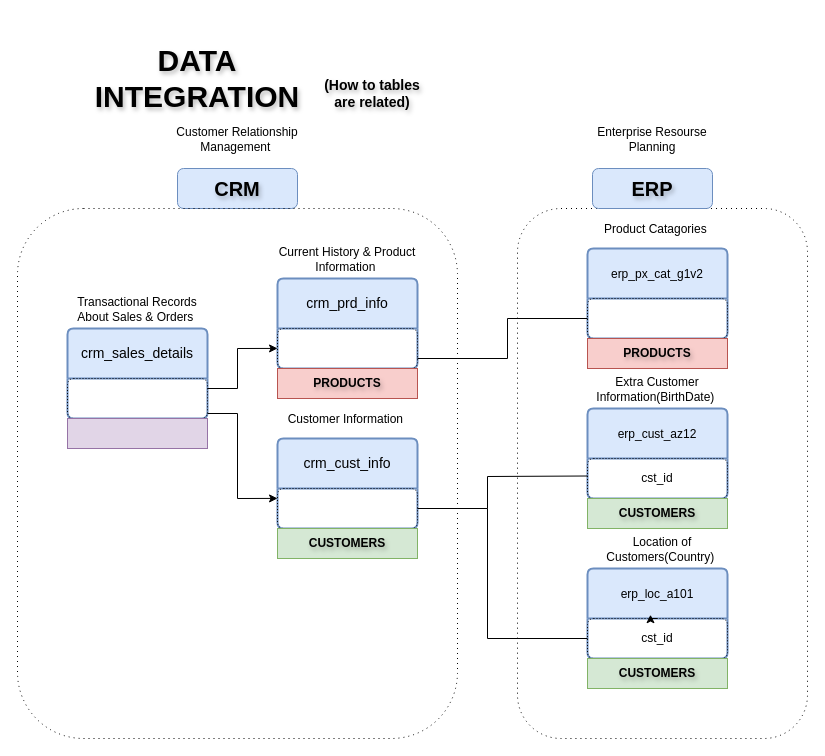
Image size: 825x756. Some labels were removed from this diagram. The shapes that lost their labels are listed below. From the top down, each one's centre as x and y in pixels, then its label:
At pixel 657 318: "id".
At pixel 347 348: "prd_key".
At pixel 137 398: "prd_key cst_id".
At pixel 137 433: "SALES".
At pixel 347 508: "cst_id cst_key".
